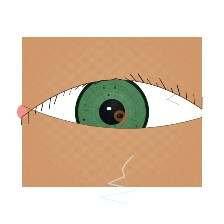foreign_body_visible: (103, 103, 136, 129)
